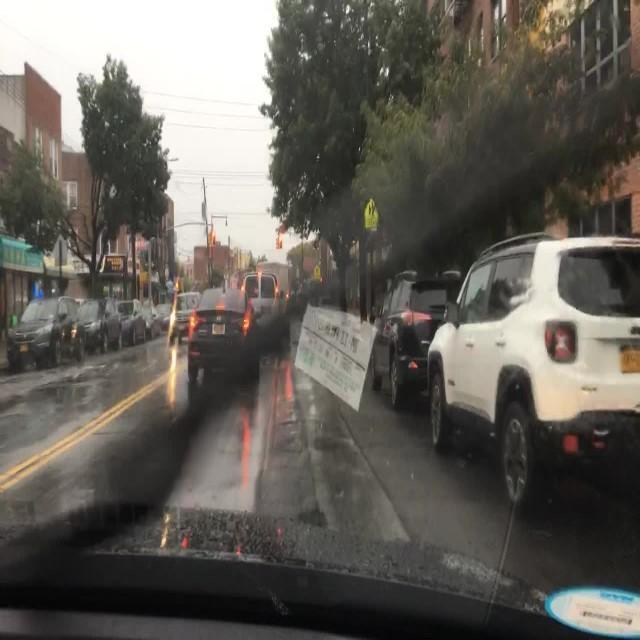normal: (424, 231, 640, 509), (175, 255, 302, 393), (370, 272, 461, 418), (7, 295, 84, 369), (74, 301, 107, 356), (169, 290, 204, 340), (116, 299, 150, 345), (97, 299, 124, 350)
